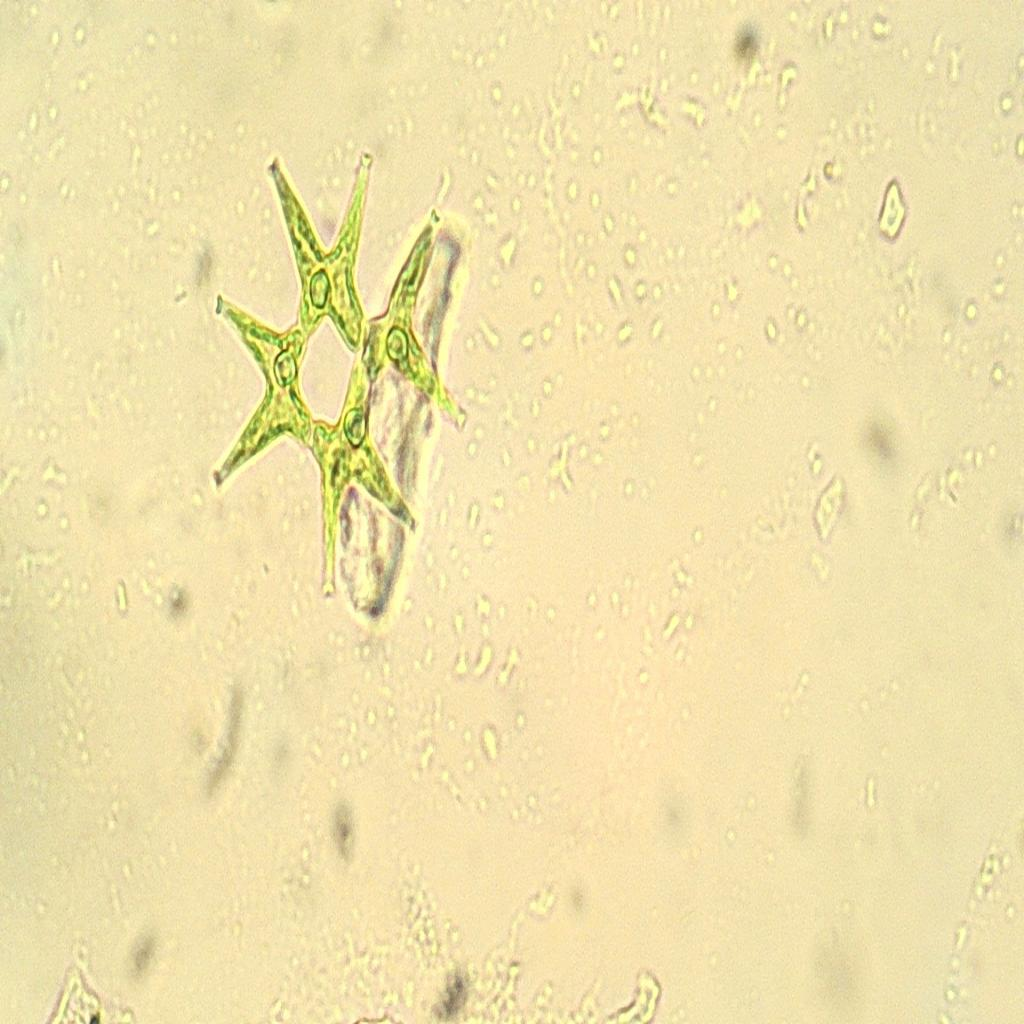Pediastrum_75FI: (201, 141, 478, 615)
